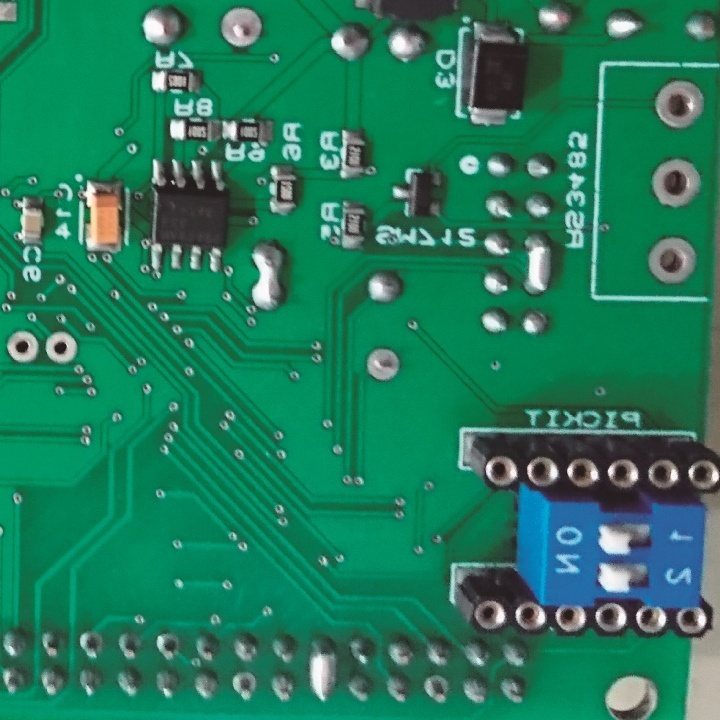F: (646, 233, 699, 288), (650, 156, 701, 212), (653, 77, 704, 132), (218, 1, 264, 55), (363, 346, 402, 386), (4, 328, 38, 366), (43, 329, 77, 367), (420, 672, 453, 706), (232, 669, 259, 705), (156, 631, 181, 661), (77, 629, 101, 660)
P: (247, 237, 290, 316), (307, 631, 338, 708), (523, 228, 552, 298)
